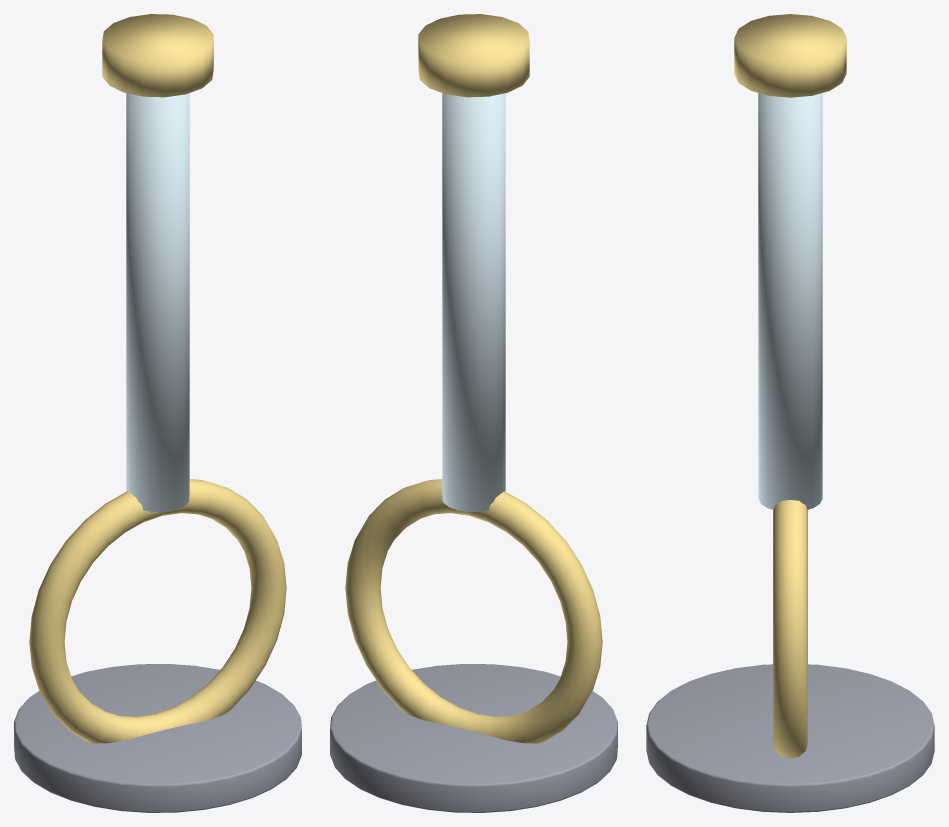
The model's file is fx_ring.glb.
3 views of the same model, side by side, from view 1: azimuth 30°, elevation 25°; view 2: azimuth 150°, elevation 25°; view 3: azimuth 270°, elevation 25° (orthographic).
Parts seen in each view (by area): view 1: fx_ring; view 2: fx_ring; view 3: fx_ring.
Part boxes in pixels (x1=…): fx_ring: x1=14, y1=14, x2=301, y2=812; fx_ring: x1=330, y1=14, x2=617, y2=812; fx_ring: x1=646, y1=14, x2=934, y2=812.
Bounding box in the file's own units: 3.64 × 9.85 × 3.6.
